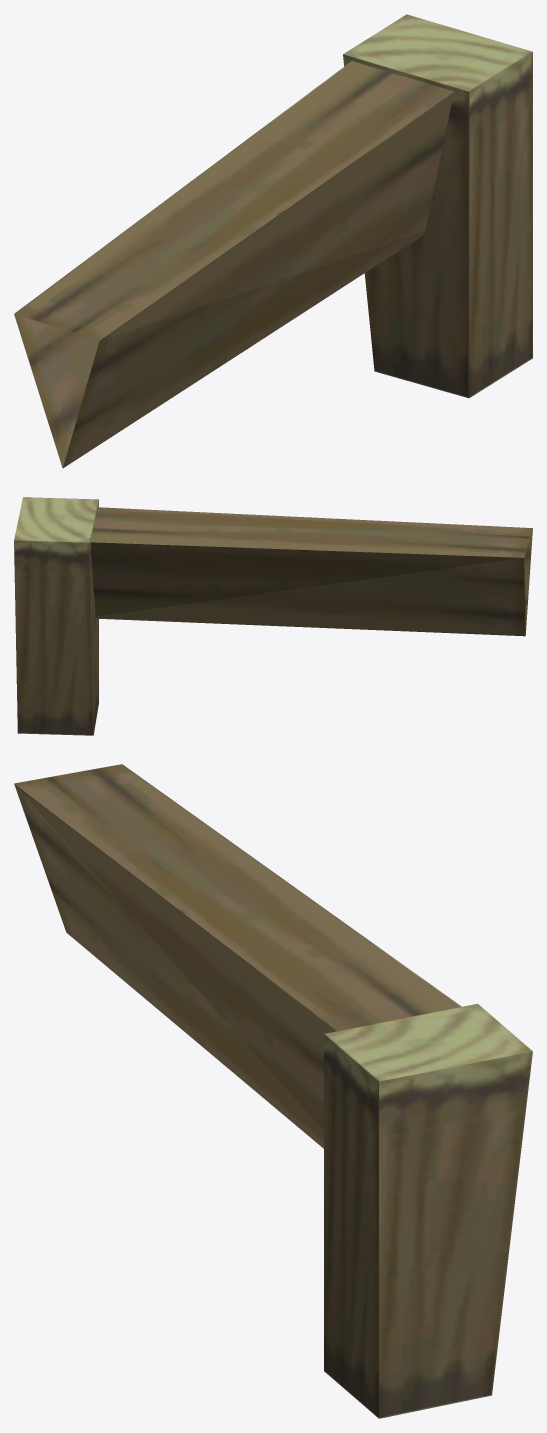
File: Outset Island  Fence.fbx
3 views of the same model, one above another, from view 1: azimuth 30°, elevation 25°; view 2: azimuth 150°, elevation 25°; view 3: azimuth 270°, elevation 25° (orthographic). The views are drawn at different scales.
Visible parts, largest first — view 1: Island.007, Island.006; view 2: Island.007, Island.006; view 3: Island.006, Island.007.
Part boxes in pixels (left/top/right/bottom): Island.007: left=14, top=61, right=453, bottom=468; Island.006: left=343, top=14, right=532, bottom=398; Island.007: left=90, top=507, right=532, bottom=636; Island.006: left=14, top=497, right=98, bottom=735; Island.006: left=324, top=1003, right=532, bottom=1418; Island.007: left=14, top=764, right=461, bottom=1148.
Size of the model in its own units: 2413 by 1112 by 1551.
